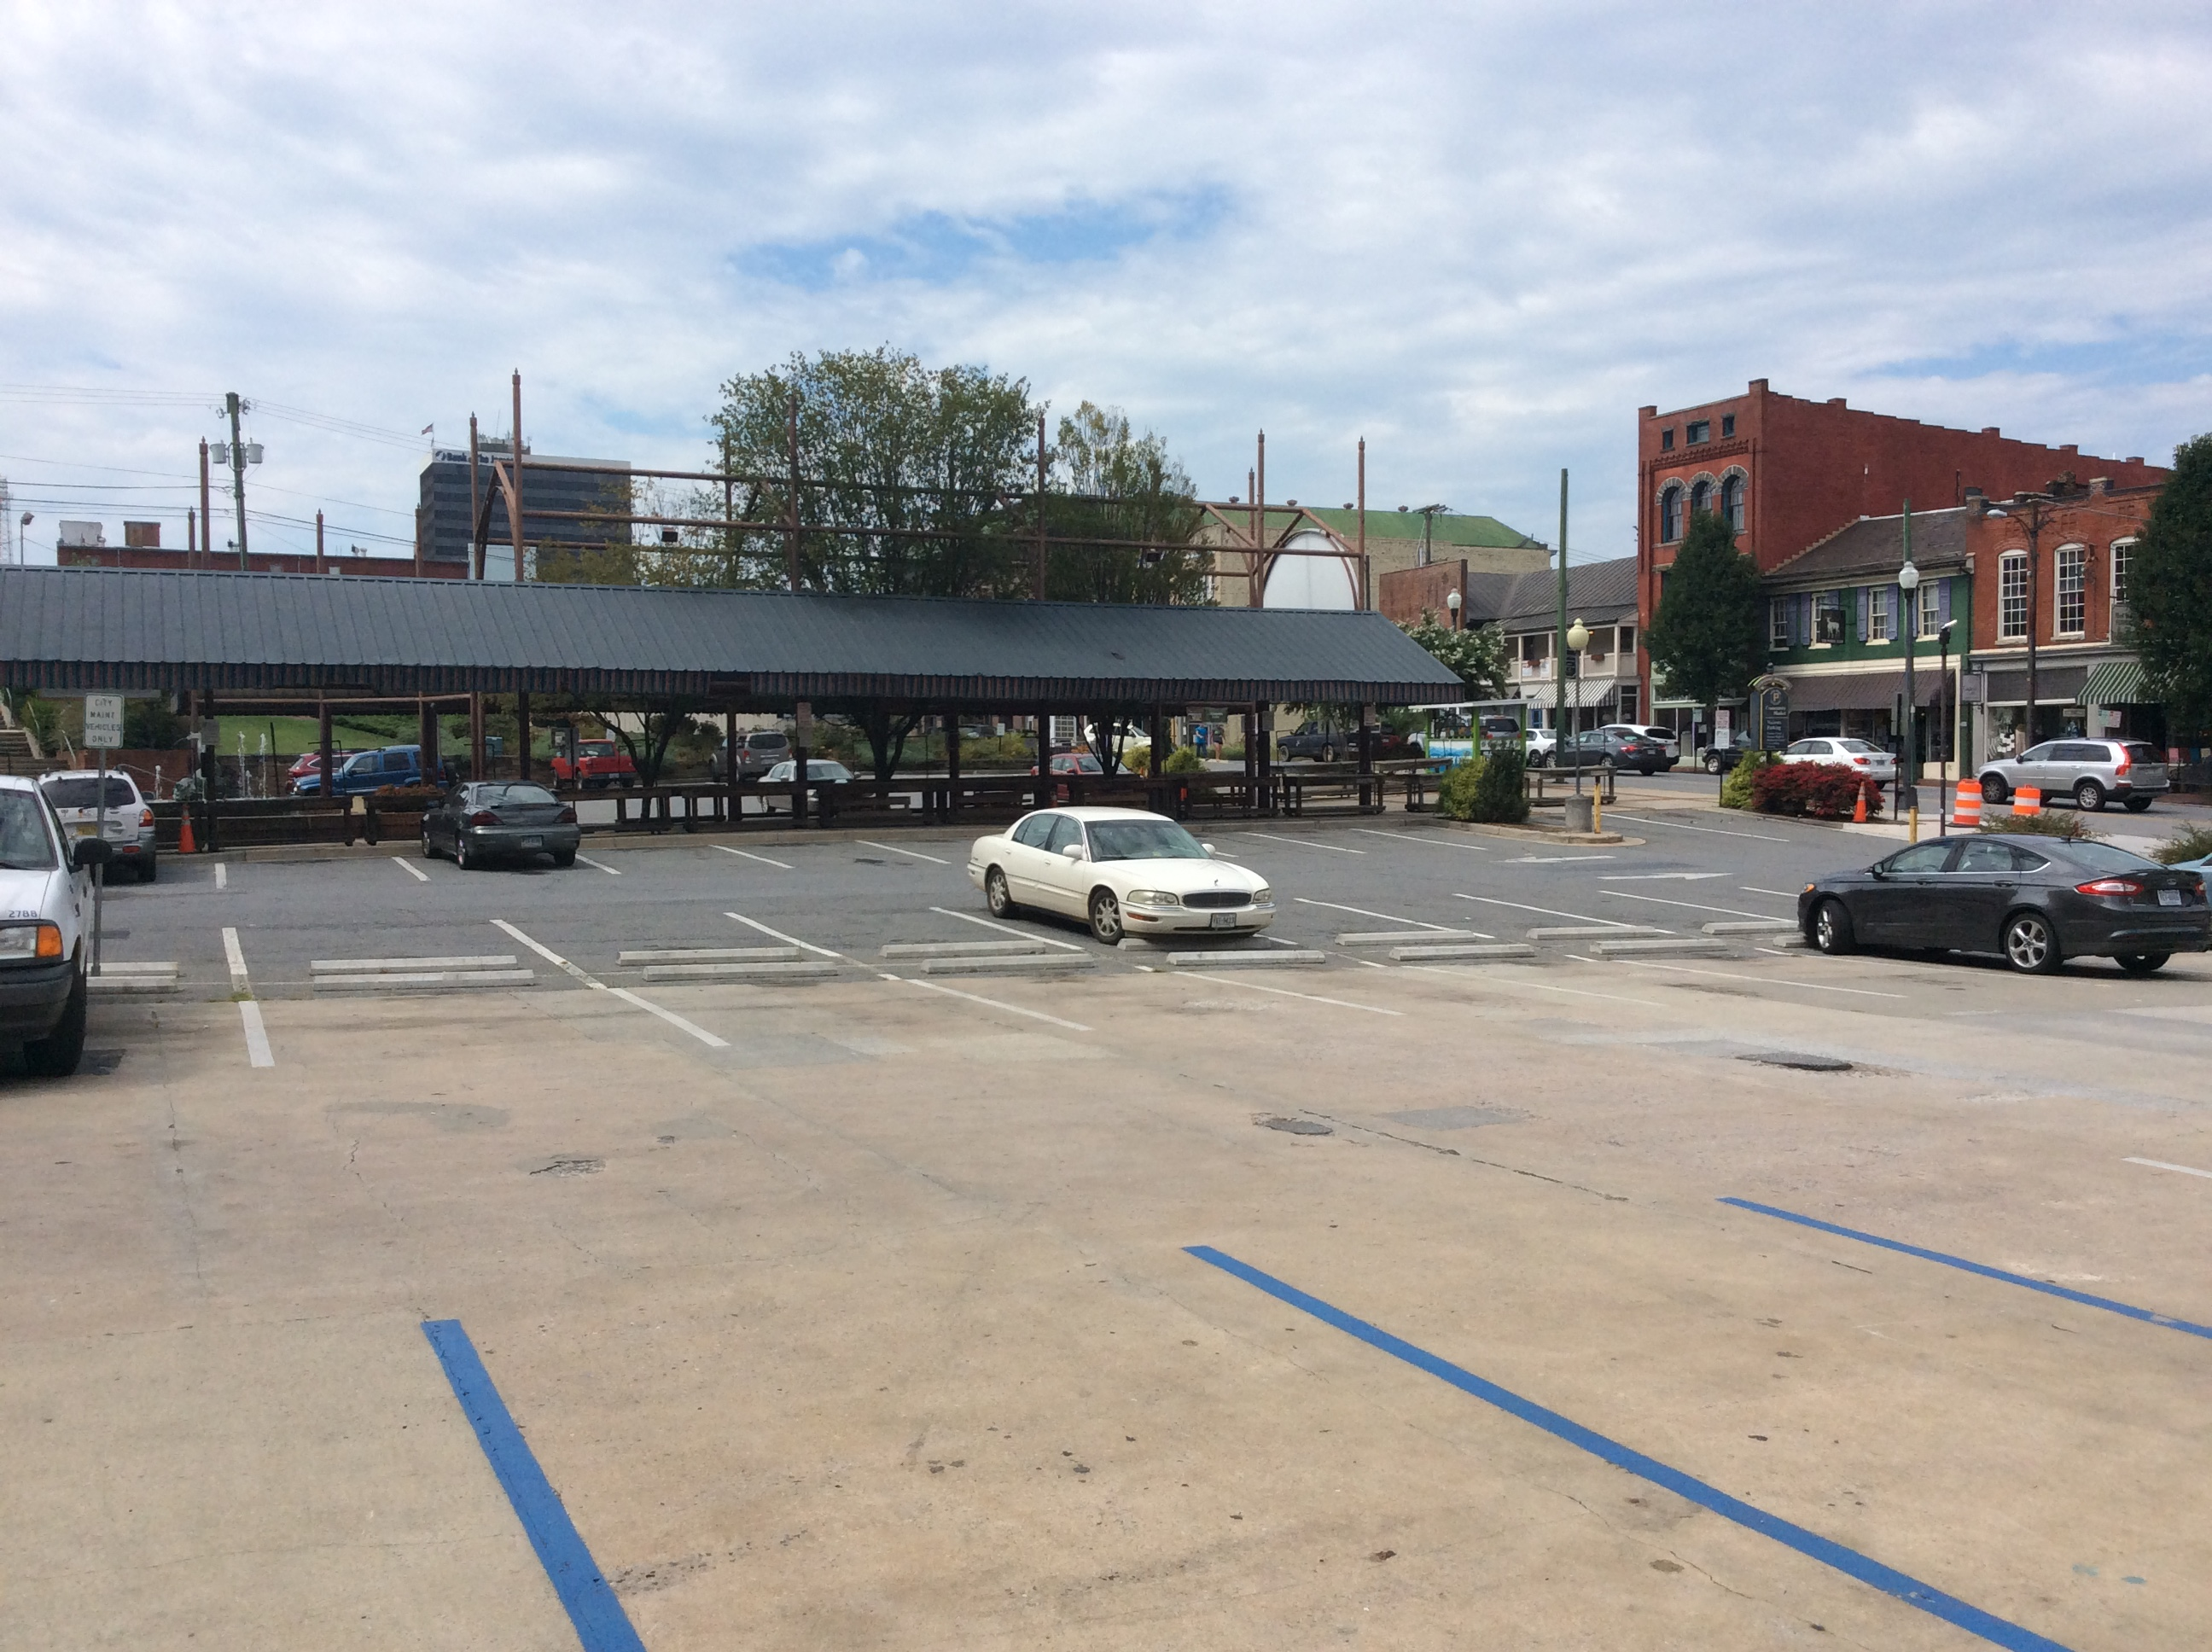empyt_space: (387, 1244, 2009, 1652), (1175, 1177, 2212, 1636), (224, 958, 741, 1091), (590, 953, 1102, 1083), (1150, 946, 1693, 1050), (1398, 928, 1912, 1036), (900, 947, 1407, 1055), (1624, 927, 2014, 1010), (488, 899, 840, 965), (212, 911, 566, 972), (1301, 878, 1641, 939), (717, 897, 1063, 954), (1440, 883, 1792, 930), (715, 817, 961, 880), (578, 821, 793, 882), (1279, 878, 1454, 949), (1608, 859, 1810, 916), (210, 845, 425, 892), (1244, 821, 1475, 859), (1204, 817, 1343, 866)
